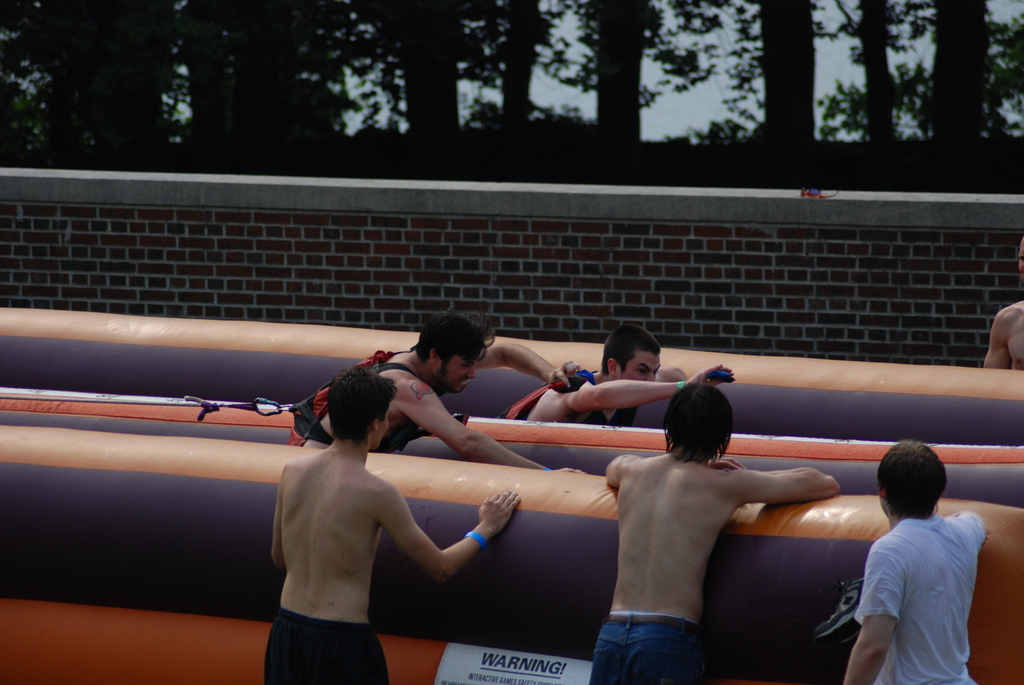Human_hand: (472, 484, 524, 536), (689, 361, 735, 390), (544, 358, 584, 388), (705, 455, 746, 473), (555, 467, 591, 476)
